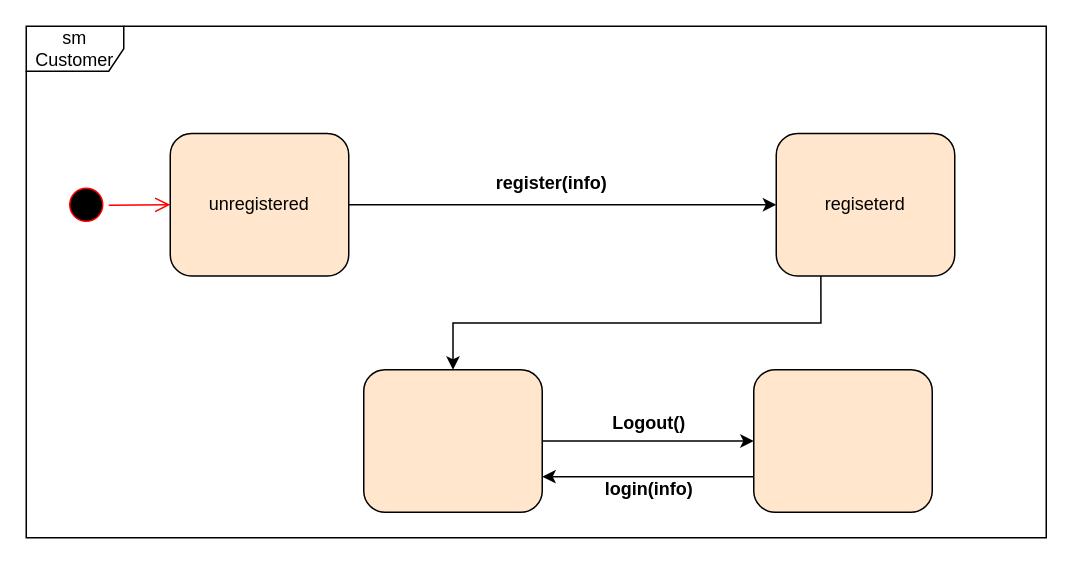
The diagram is 1073 pixels wide and 564 high, and some of its shapes have lost their labels. Each missing label, with the box of its shape:
logged in: (362, 368, 542, 512)
logged out: (752, 368, 932, 512)
